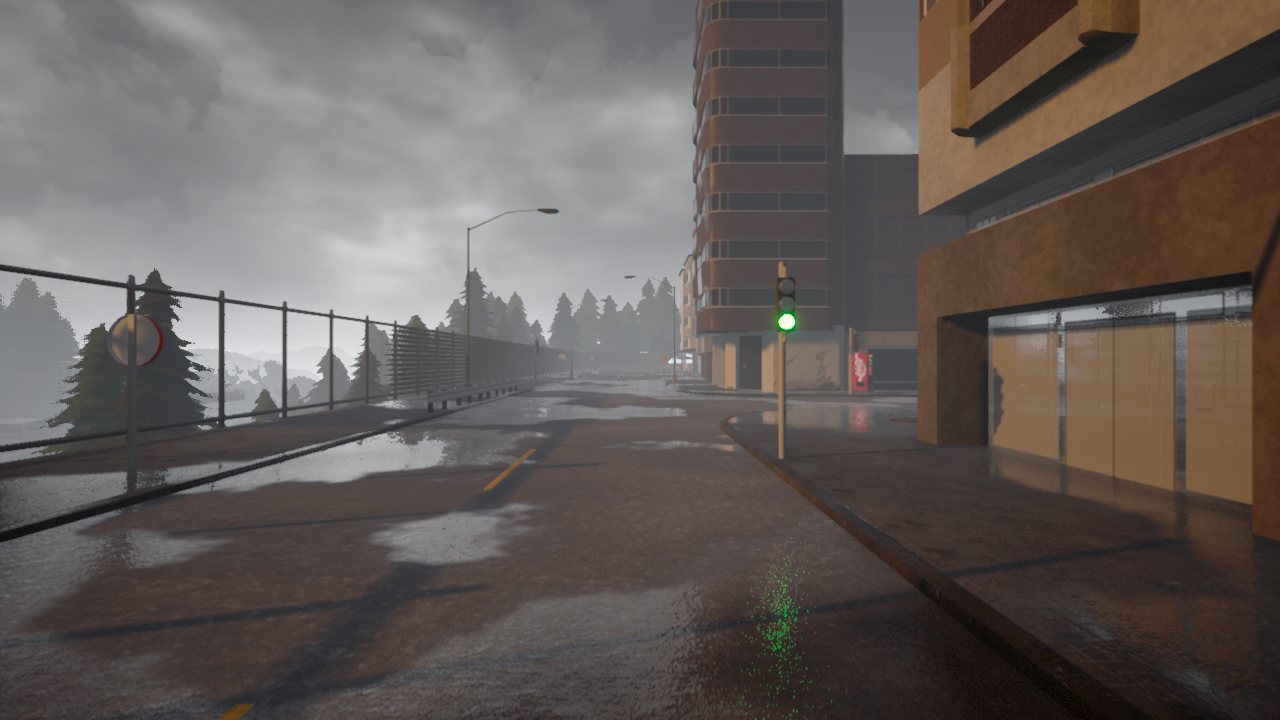green: (774, 276, 797, 333)
